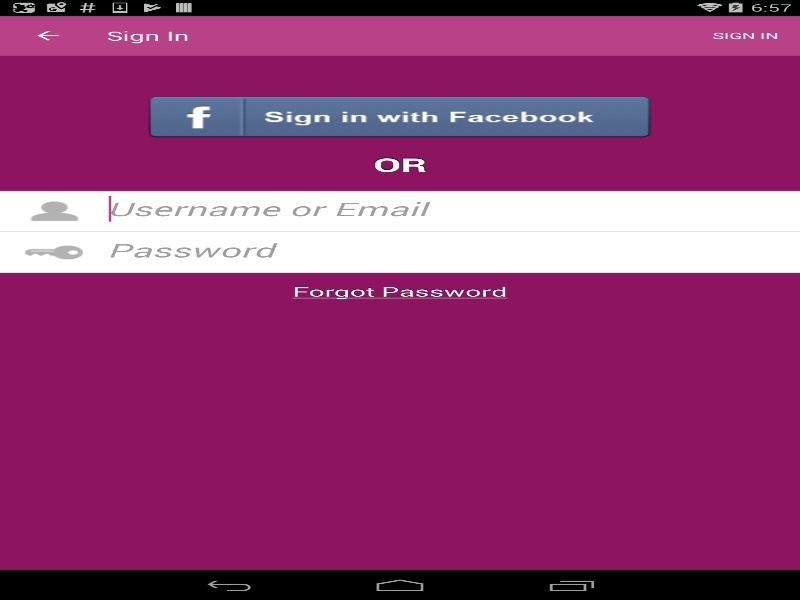Button: (10, 15, 85, 55)
Input: (108, 196, 800, 221), (108, 237, 800, 262)
